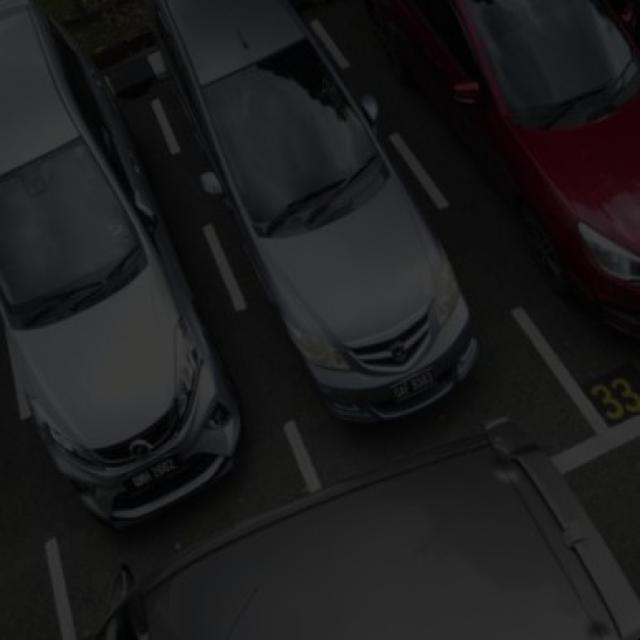Legalparking: (149, 0, 476, 420), (0, 0, 241, 524)
illegalparking: (89, 420, 638, 638)
